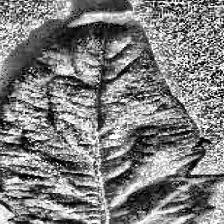spider mites: (0, 10, 224, 224)
